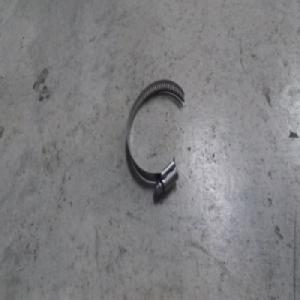AdjustableClamp: (125, 80, 189, 196)
